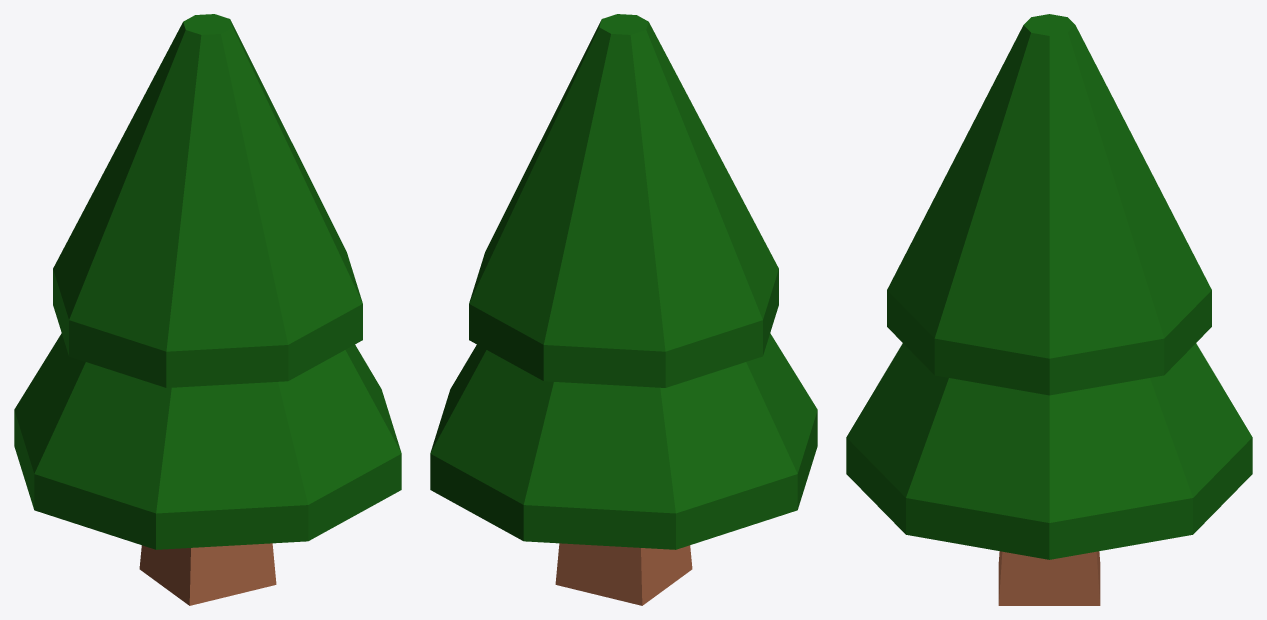
Rendered from TreeSingleFlatTile.obj.
3 views of the same model, side by side, from view 1: azimuth 30°, elevation 25°; view 2: azimuth 150°, elevation 25°; view 3: azimuth 270°, elevation 25° (orthographic).
Parts seen in each view (by area): view 1: tree; view 2: tree; view 3: tree.
Boxes of the visible parts, box(x1,y1,x2,y2) form: tree: box(14, 14, 401, 605); tree: box(430, 14, 817, 605); tree: box(846, 14, 1252, 605).
Bounding box in the file's own units: 0.6607 × 1 × 0.6607.
